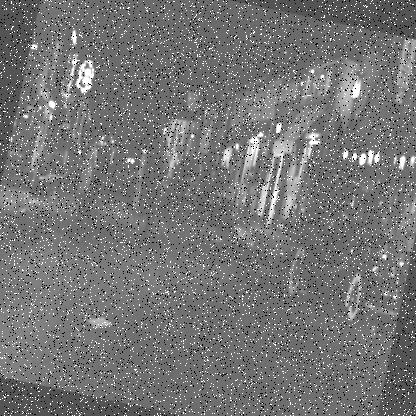Car: (276, 156, 415, 321), (194, 158, 240, 224), (171, 162, 202, 206)
